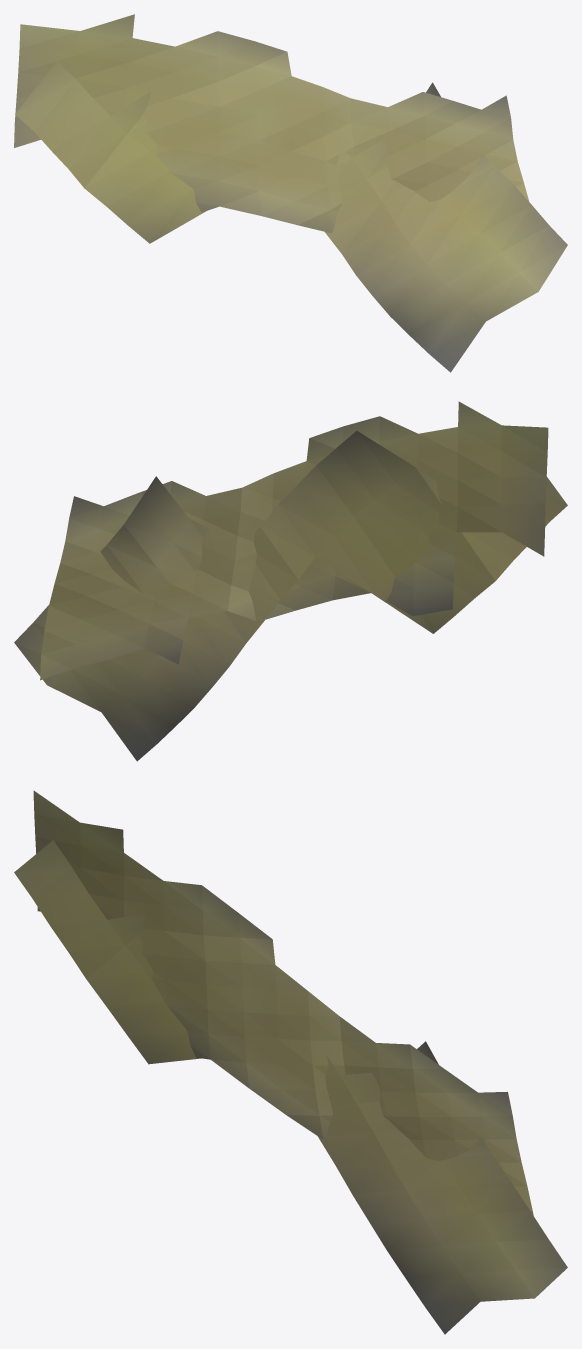
The model's file is entity-floor-marking-21.glb.
3 views of the same model, one above another, from view 1: azimuth 30°, elevation 25°; view 2: azimuth 150°, elevation 25°; view 3: azimuth 330°, elevation 25° (orthographic). The views are drawn at different scales.
Parts seen in each view (by area): view 1: geometry_0; view 2: geometry_0; view 3: geometry_0.
Part boxes in pixels (left/top/right/bottom): geometry_0: left=14, top=14, right=567, bottom=372; geometry_0: left=14, top=401, right=567, bottom=761; geometry_0: left=14, top=790, right=567, bottom=1334.
Bounding box in the file's own units: 0.2069 × 0.1585 × 0.0116.
